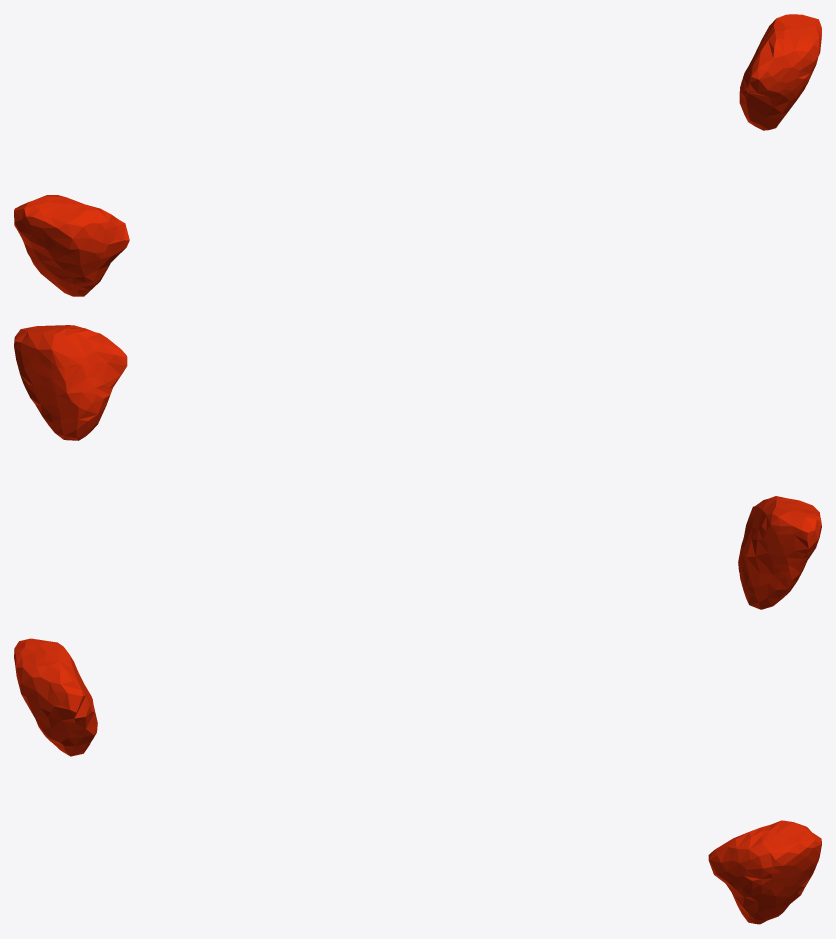
File: 226-ST1-superior temporal sulcus area 1-('1.0000', '0.1882', '0.0000').obj
3 renders of one model, top to bottom at view 1: azimuth 30°, elevation 25°; view 2: azimuth 150°, elevation 25°; view 3: azimuth 330°, elevation 25°, orthographic.
Size of the model in its own units: 316 by 39.41 by 24.53.
